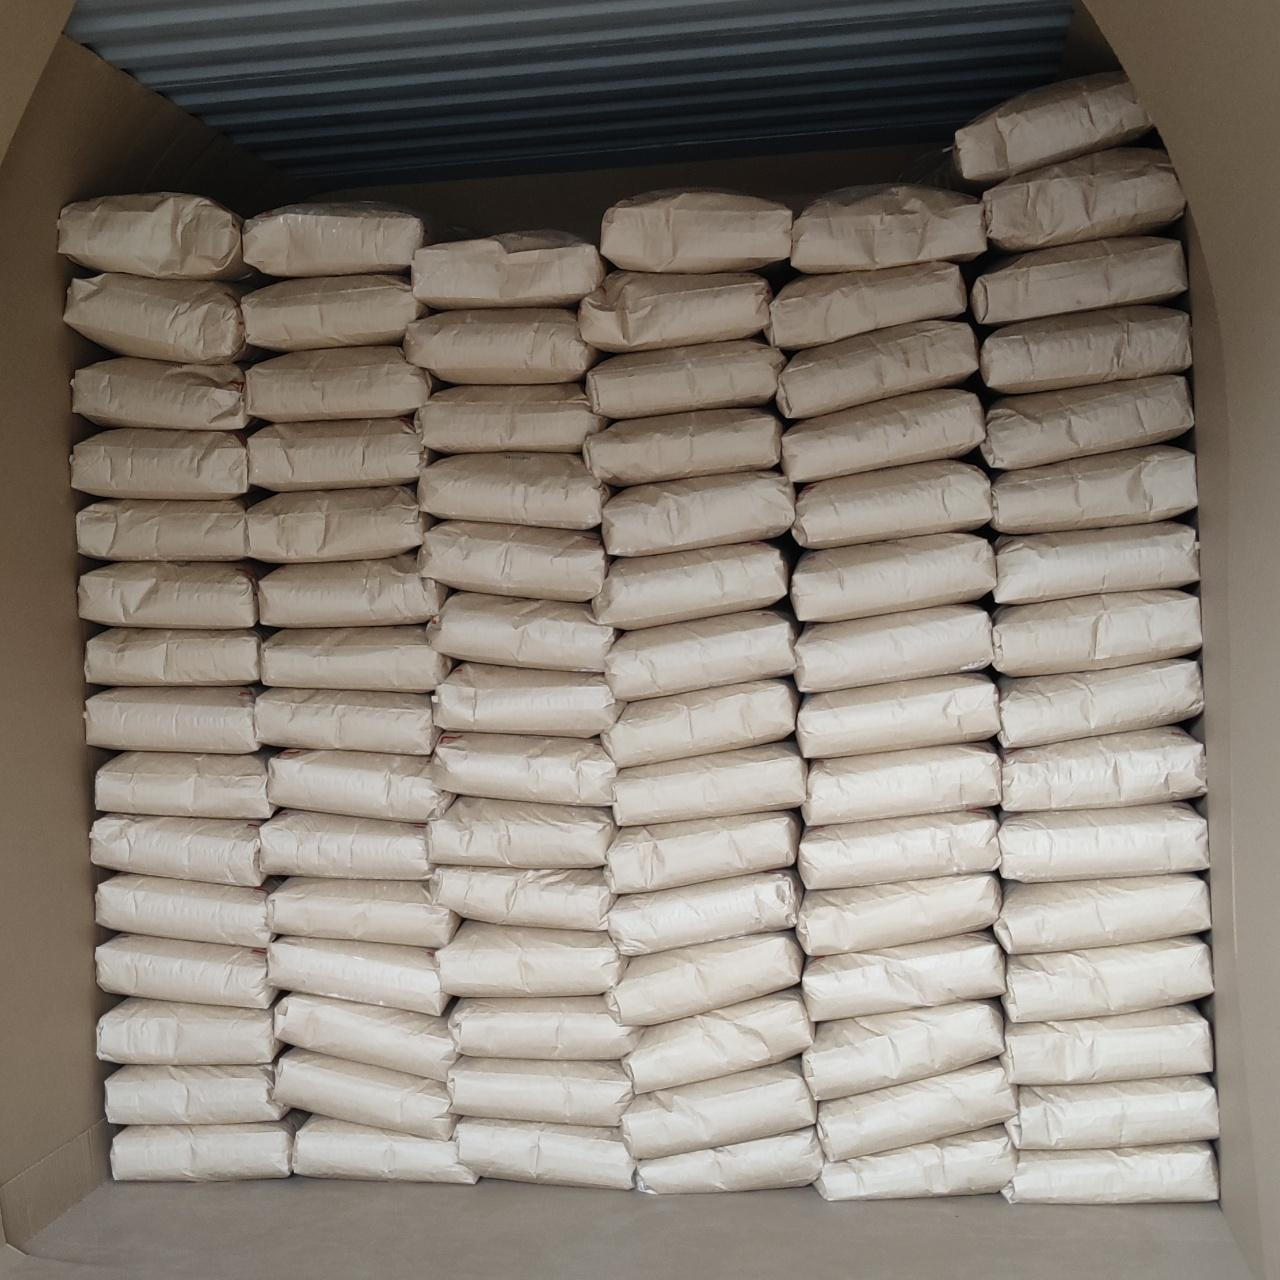sack: (953, 72, 1153, 188), (983, 148, 1185, 252), (980, 375, 1193, 470), (818, 1060, 1017, 1160), (803, 1000, 1003, 1099), (622, 1057, 815, 1159), (622, 990, 812, 1094), (776, 324, 978, 418), (971, 237, 1187, 325), (605, 931, 803, 1024), (980, 306, 1191, 394), (990, 445, 1197, 535), (790, 533, 996, 622), (781, 392, 983, 482), (990, 590, 1201, 676), (998, 659, 1201, 748), (802, 933, 1005, 1021), (1002, 937, 1212, 1021), (1000, 727, 1205, 812), (794, 605, 993, 693), (792, 461, 990, 549), (767, 263, 967, 349), (796, 673, 999, 758), (791, 185, 986, 273), (602, 679, 797, 767), (995, 874, 1210, 954), (1001, 1005, 1212, 1085), (604, 610, 795, 699), (57, 192, 248, 280), (796, 874, 1000, 956), (992, 523, 1198, 604), (592, 543, 787, 628), (606, 872, 802, 956), (274, 1048, 452, 1141), (802, 743, 1001, 825), (613, 742, 806, 826), (998, 804, 1208, 881), (64, 273, 244, 363), (601, 190, 792, 273), (602, 472, 794, 556), (586, 340, 787, 418), (578, 271, 772, 352), (584, 408, 783, 486), (275, 994, 458, 1080), (798, 811, 1000, 888), (607, 812, 799, 893), (411, 230, 606, 309), (1005, 1077, 1218, 1149), (813, 1125, 1015, 1200), (427, 592, 615, 672), (420, 523, 607, 601), (268, 937, 452, 1015), (418, 454, 610, 529), (404, 309, 598, 383), (437, 921, 627, 996), (241, 275, 427, 352), (246, 346, 431, 422), (246, 486, 434, 561), (433, 663, 622, 737), (259, 554, 449, 627), (244, 202, 430, 275), (267, 877, 459, 948), (428, 734, 617, 806), (91, 813, 280, 886), (427, 796, 615, 869), (248, 417, 434, 491), (96, 934, 277, 1009), (417, 383, 610, 454), (1001, 1142, 1218, 1203), (268, 750, 452, 822), (96, 874, 270, 949), (291, 1115, 478, 1184), (72, 358, 250, 430), (447, 1057, 633, 1126), (72, 428, 248, 499), (455, 1118, 634, 1189), (261, 626, 450, 693), (256, 687, 436, 755), (636, 1126, 823, 1192), (97, 998, 282, 1063), (95, 753, 274, 819), (447, 998, 640, 1058), (260, 811, 430, 880), (429, 866, 614, 930), (79, 563, 257, 628), (113, 1117, 297, 1180), (86, 687, 261, 753), (77, 497, 248, 560), (105, 1065, 287, 1124), (86, 628, 263, 685)
